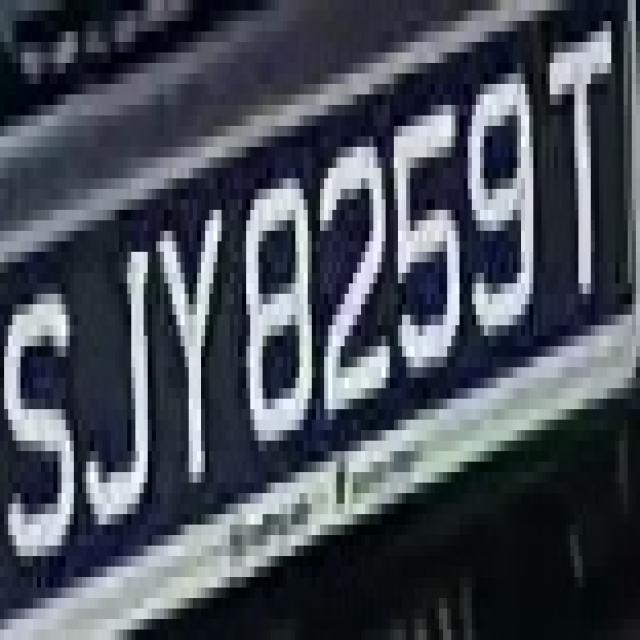2: (312, 105, 394, 430)
5: (386, 74, 468, 388)
8: (238, 158, 316, 482)
9: (455, 63, 546, 378)
J: (82, 200, 160, 524)
S: (8, 252, 82, 577)
T: (521, 11, 628, 326)
Y: (156, 189, 234, 472)
